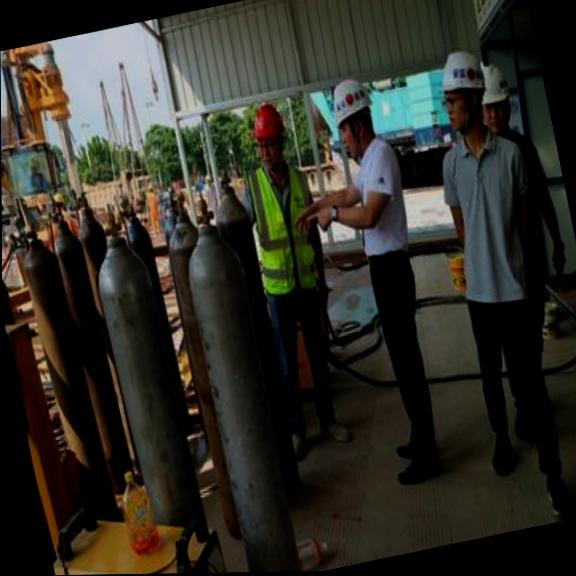no_safety_vest: (434, 110, 549, 309), (345, 139, 422, 273)
safety_vest: (239, 154, 324, 307)
